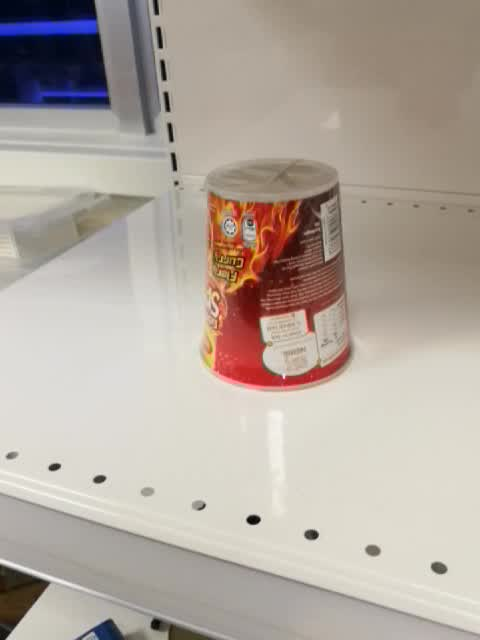maggi: (199, 156, 355, 393)
